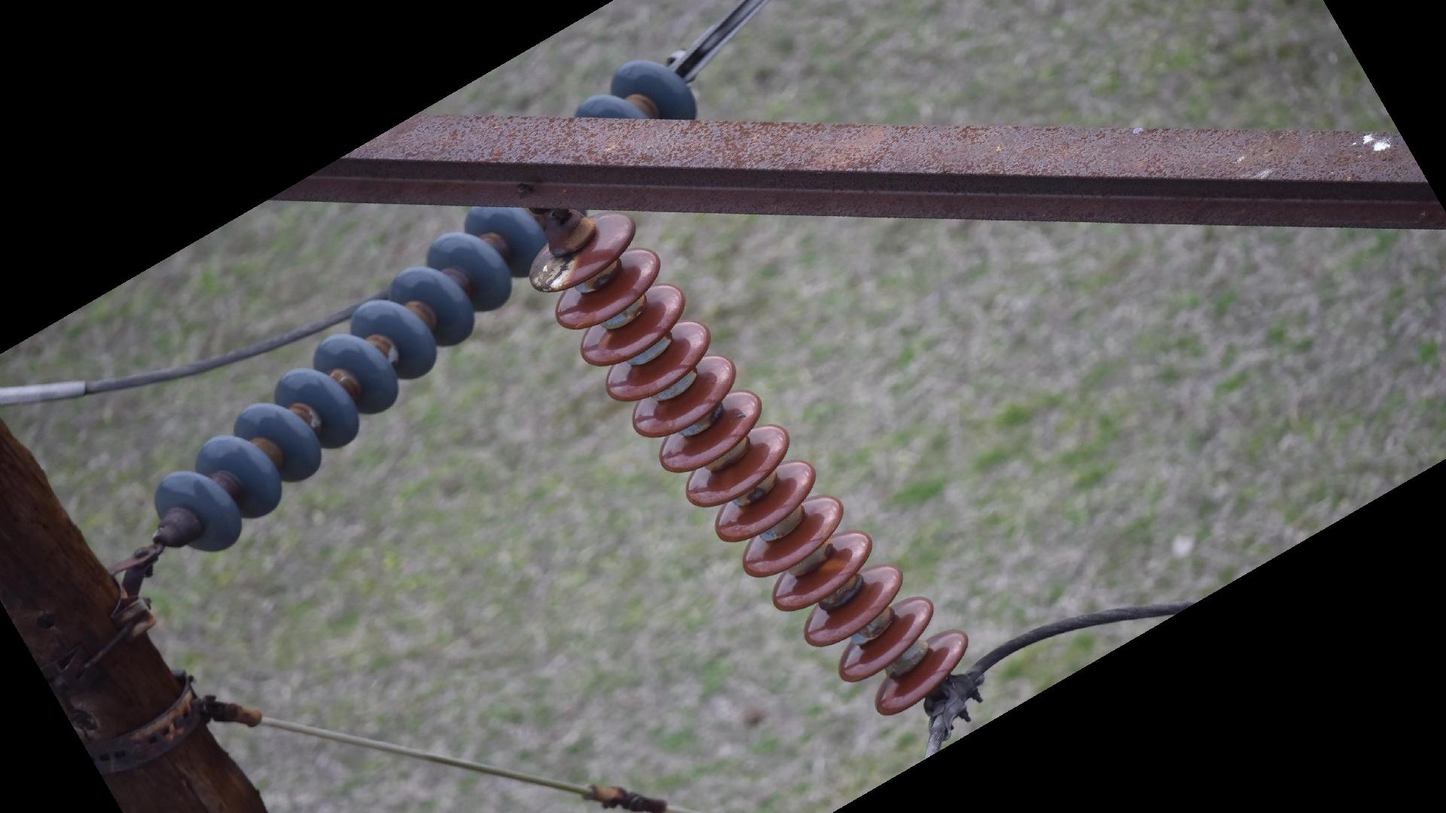insulator: (525, 209, 972, 720), (148, 199, 551, 560), (572, 53, 704, 130)
insulator_flashover: (524, 243, 581, 294)
